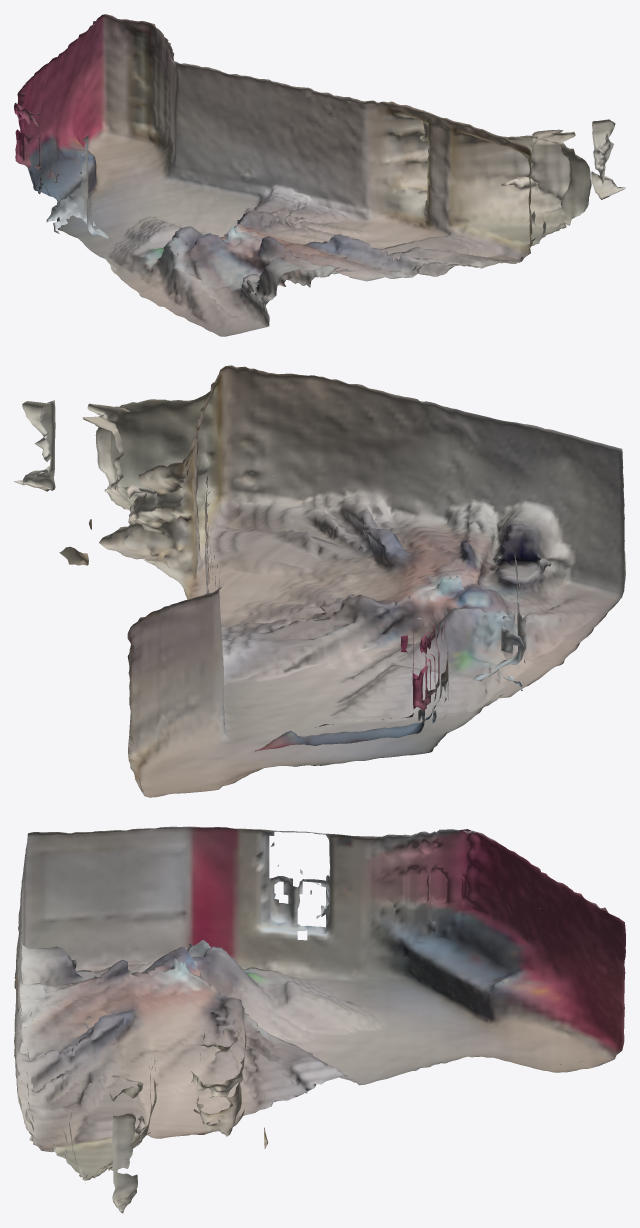
File: modern-office.glb
3 renders of one model, top to bottom at view 1: azimuth 30°, elevation 25°; view 2: azimuth 150°, elevation 25°; view 3: azimuth 270°, elevation 25°, orthographic. The views are drawn at different scales.
Parts seen in each view (by area): view 1: world; view 2: world; view 3: world.
Part boxes in pixels (x1,y1,x2,y2): world: (14,14,625,336); world: (14,365,625,797); world: (14,826,625,1213).
Bounding box in the file's own units: 11.92 × 3.03 × 10.85.
